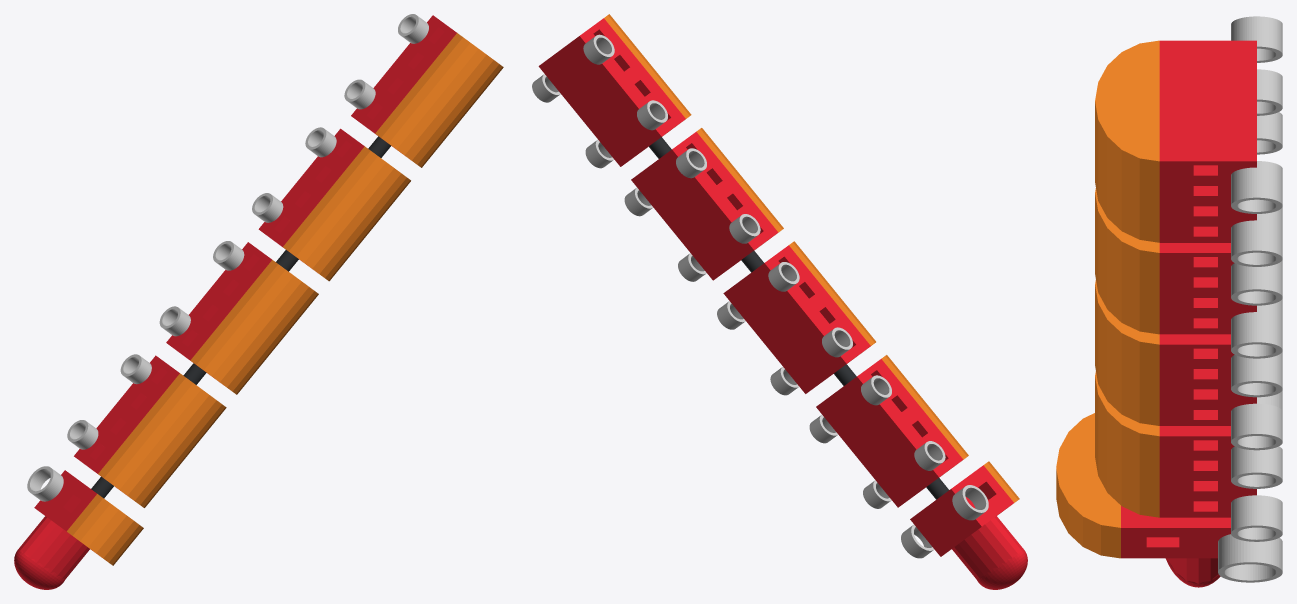
Rendered from tinker.obj.
3 views of the same model, side by side, from view 1: azimuth 30°, elevation 25°; view 2: azimuth 150°, elevation 25°; view 3: azimuth 270°, elevation 25° (orthographic). The views are drawn at different scales.
Visible parts, largest first — view 1: group_0_16089887, group_0_15277357, group_0_0, group_0_2829873; view 2: group_0_15277357, group_0_0, group_0_16089887, group_0_2829873; view 3: group_0_15277357, group_0_16089887, group_0_0.
Part boxes in pixels (bbox=[...]): group_0_16089887: bbox=[67, 33, 503, 565]; group_0_15277357: bbox=[14, 15, 456, 589]; group_0_0: bbox=[27, 14, 428, 501]; group_0_2829873: bbox=[91, 136, 390, 498]; group_0_15277357: bbox=[538, 18, 1027, 589]; group_0_0: bbox=[532, 34, 988, 558]; group_0_16089887: bbox=[604, 14, 1019, 512]; group_0_2829873: bbox=[649, 137, 948, 499]; group_0_15277357: bbox=[1121, 40, 1256, 587]; group_0_16089887: bbox=[1056, 40, 1159, 558]; group_0_0: bbox=[1218, 16, 1282, 582].
Bounding box in the file's own units: 170 × 160 × 35.
